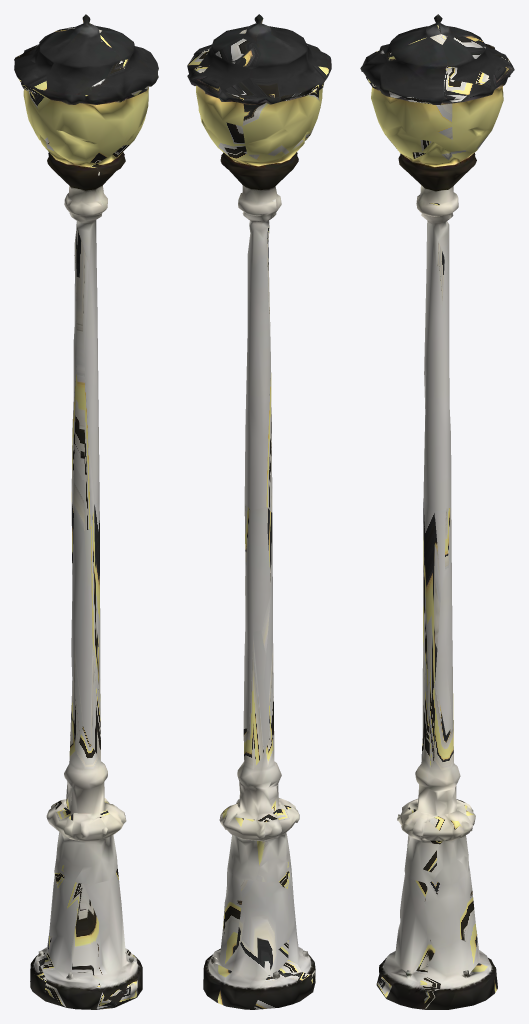
The model's file is street-lamp.glb.
3 views of the same model, side by side, from view 1: azimuth 30°, elevation 25°; view 2: azimuth 150°, elevation 25°; view 3: azimuth 270°, elevation 25° (orthographic).
Parts seen in each view (by area): view 1: tripo_node_d469c2bf-bd59-4eca-83a9-c4da854c9c65; view 2: tripo_node_d469c2bf-bd59-4eca-83a9-c4da854c9c65; view 3: tripo_node_d469c2bf-bd59-4eca-83a9-c4da854c9c65.
Boxes of the visible parts, <box> form: tripo_node_d469c2bf-bd59-4eca-83a9-c4da854c9c65: <box>14,14,158,1009</box>; tripo_node_d469c2bf-bd59-4eca-83a9-c4da854c9c65: <box>187,14,331,1009</box>; tripo_node_d469c2bf-bd59-4eca-83a9-c4da854c9c65: <box>360,14,514,1009</box>.
Bounding box in the file's own units: 0.1341 × 0.9824 × 0.1406.
Materials: 1 (1 with a texture image).
